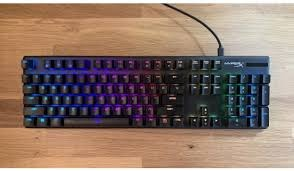keyboard: (20, 43, 273, 133)
